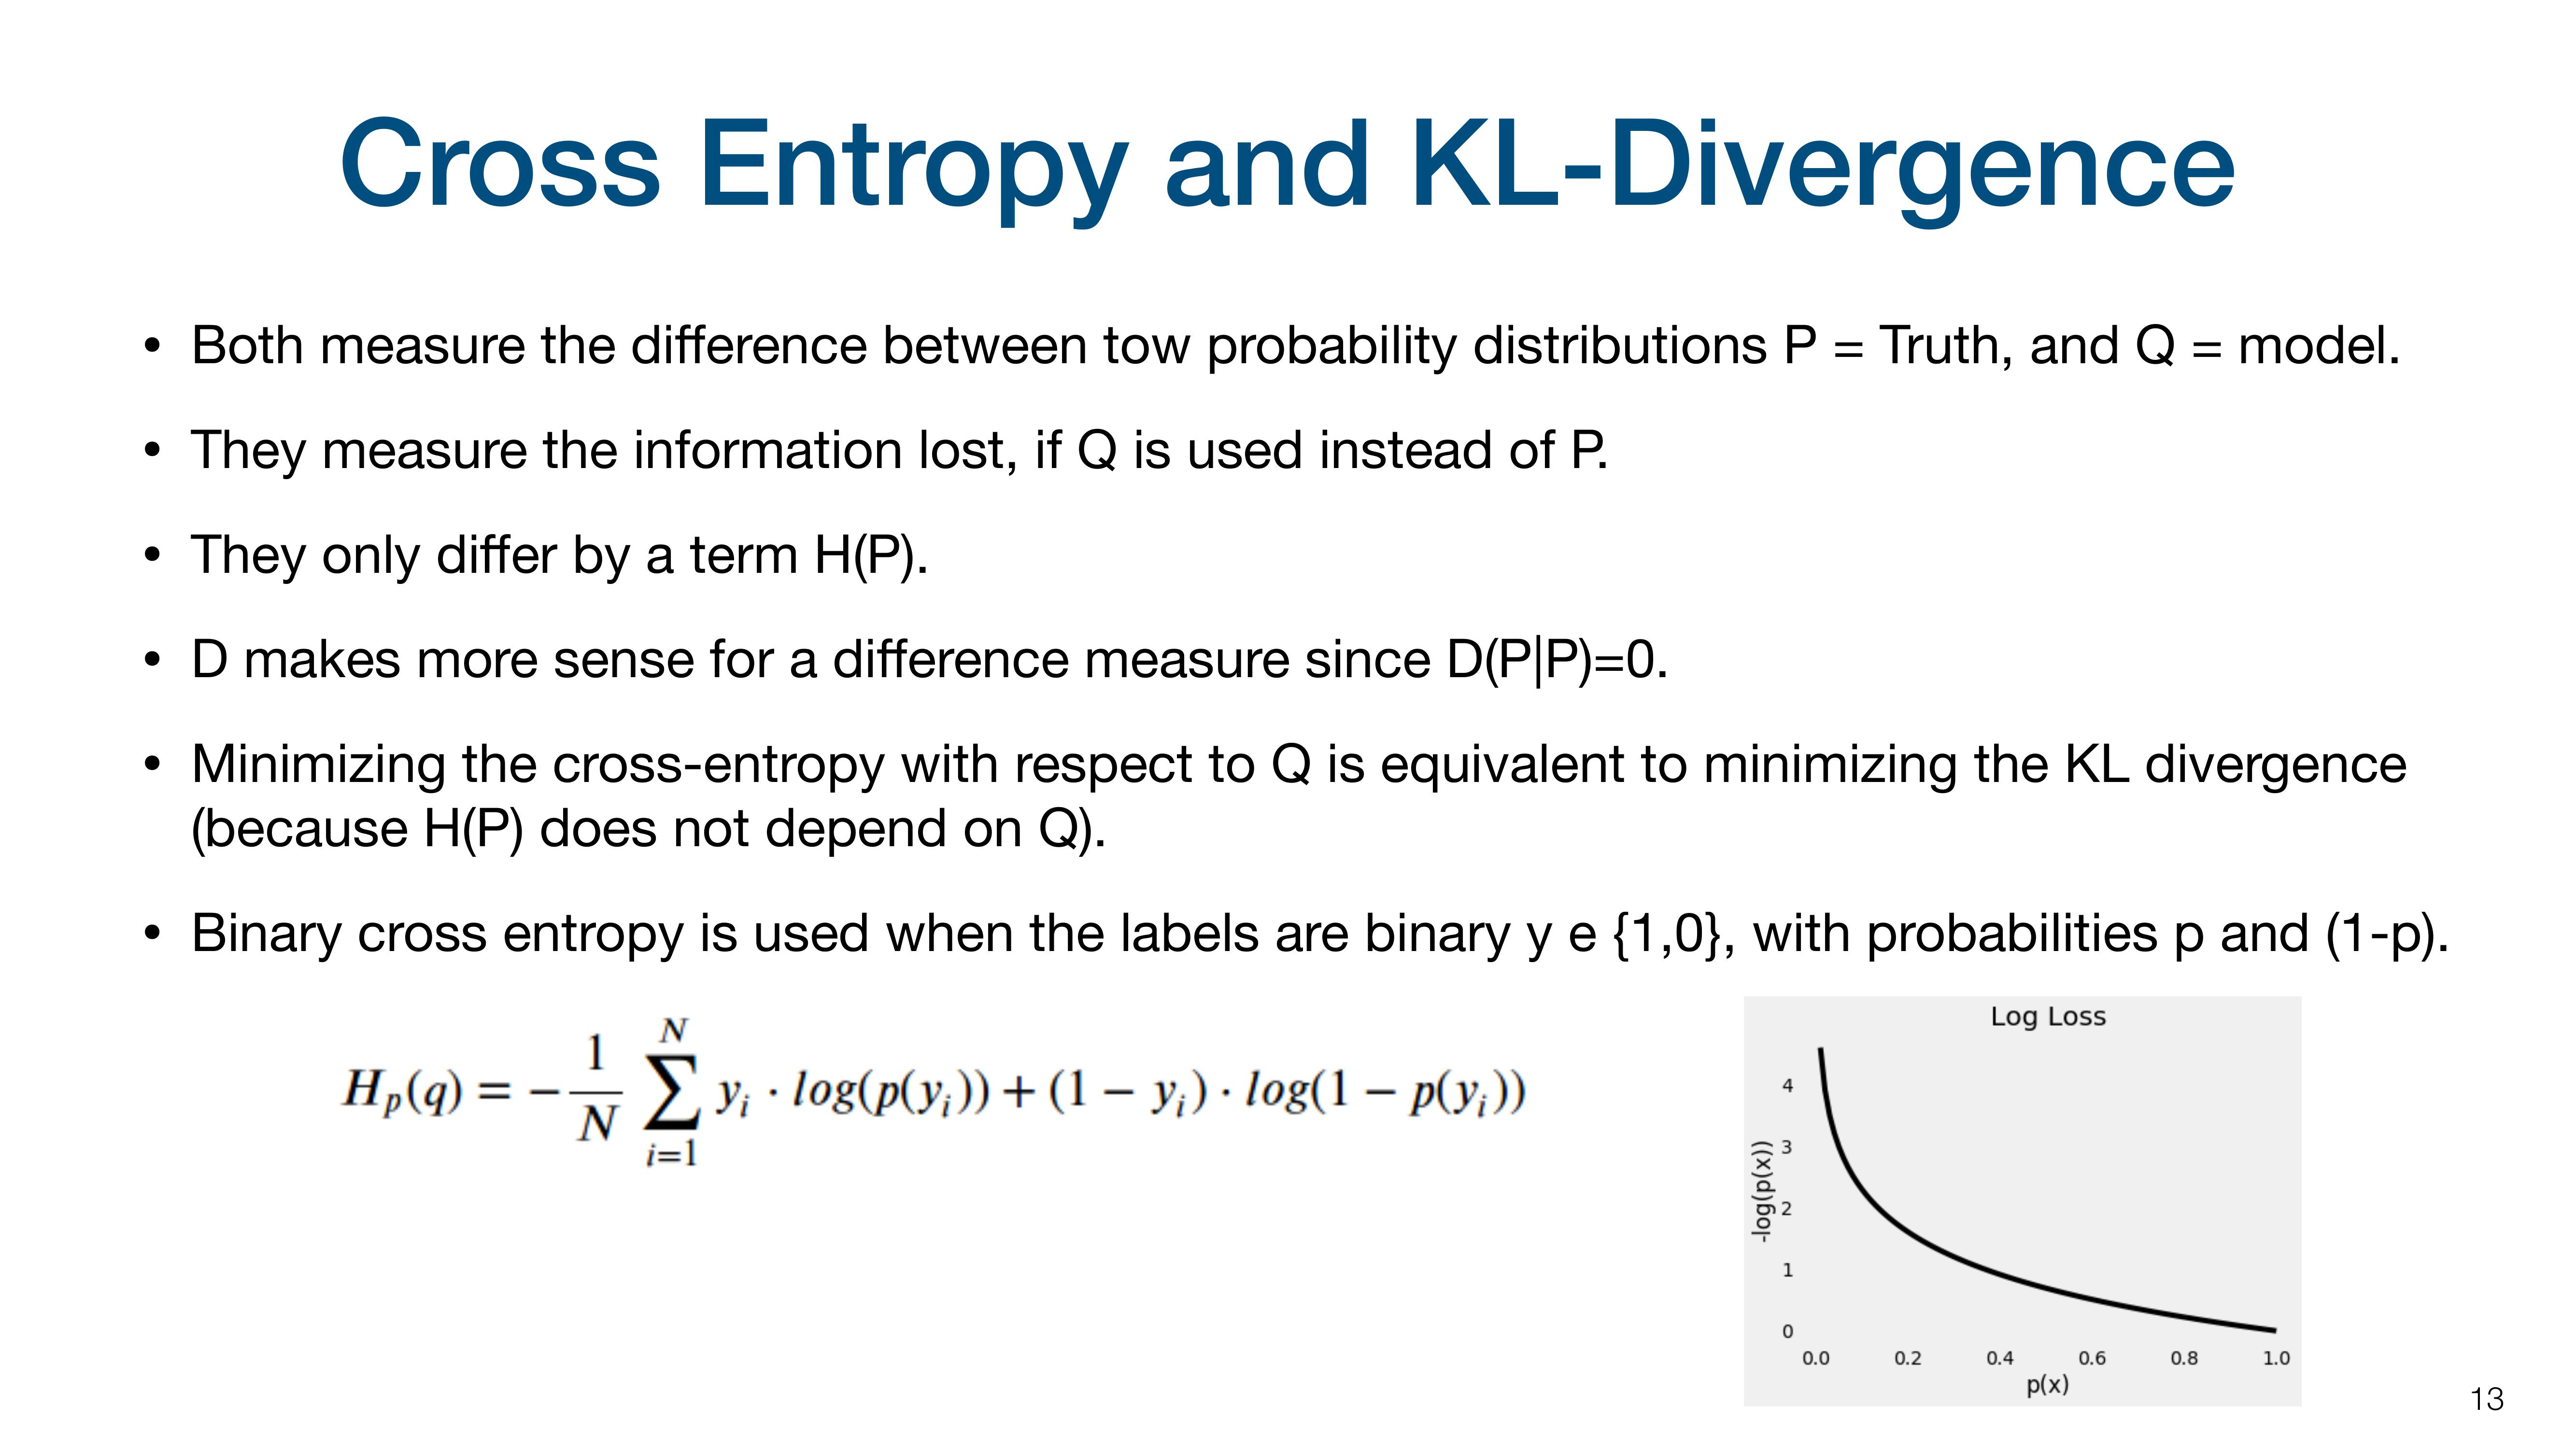Title: (336, 106, 2254, 235)
